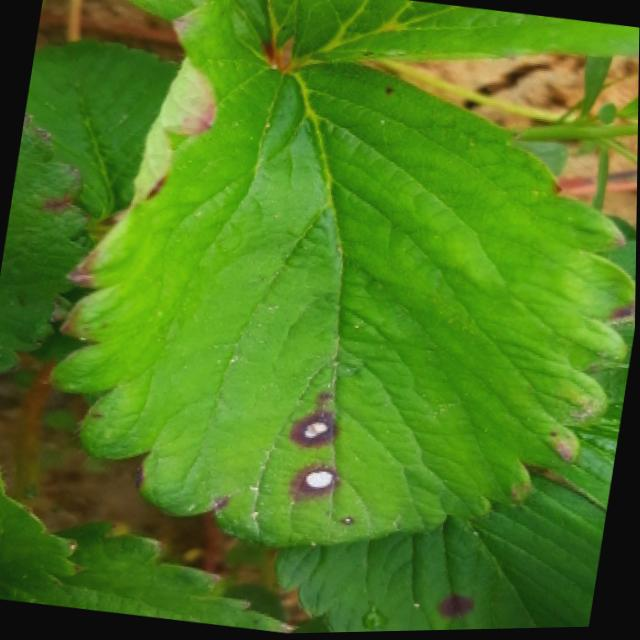Leaf Spot: (47, 61, 637, 546), (278, 469, 609, 634), (0, 514, 297, 635), (263, 0, 640, 71), (0, 110, 91, 376)
